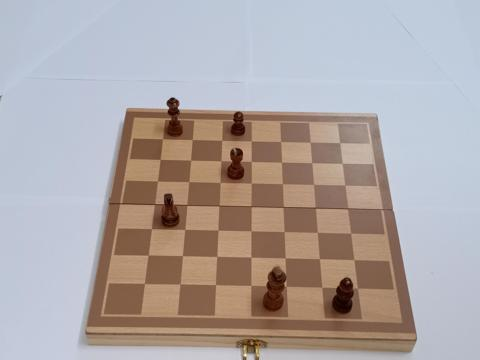xcorner: (151, 177, 161, 187), (215, 156, 225, 166), (278, 203, 288, 213), (279, 228, 289, 238), (309, 180, 319, 190), (154, 155, 163, 165), (146, 225, 155, 235), (142, 252, 152, 261), (186, 135, 196, 144), (181, 201, 190, 211), (174, 281, 184, 290), (214, 179, 224, 188), (213, 202, 223, 211), (212, 227, 222, 236), (211, 253, 220, 263), (246, 282, 255, 292), (276, 136, 285, 146), (277, 157, 286, 167), (280, 255, 290, 264), (282, 283, 291, 293), (311, 204, 321, 213), (313, 229, 323, 238), (315, 256, 325, 265), (336, 137, 345, 147), (341, 181, 351, 190), (350, 257, 360, 266), (157, 135, 166, 144), (149, 201, 158, 210), (139, 280, 148, 289), (185, 156, 194, 165), (183, 178, 192, 187), (179, 226, 188, 235), (177, 253, 186, 262), (216, 136, 225, 145), (210, 282, 219, 291), (246, 136, 255, 145), (246, 157, 255, 166), (246, 179, 255, 188), (246, 203, 255, 212), (246, 228, 255, 237), (246, 254, 255, 263), (278, 180, 287, 189), (306, 137, 315, 146), (308, 158, 317, 167), (318, 284, 327, 293), (339, 159, 348, 168), (344, 205, 353, 214), (347, 230, 356, 239), (354, 285, 363, 294)
